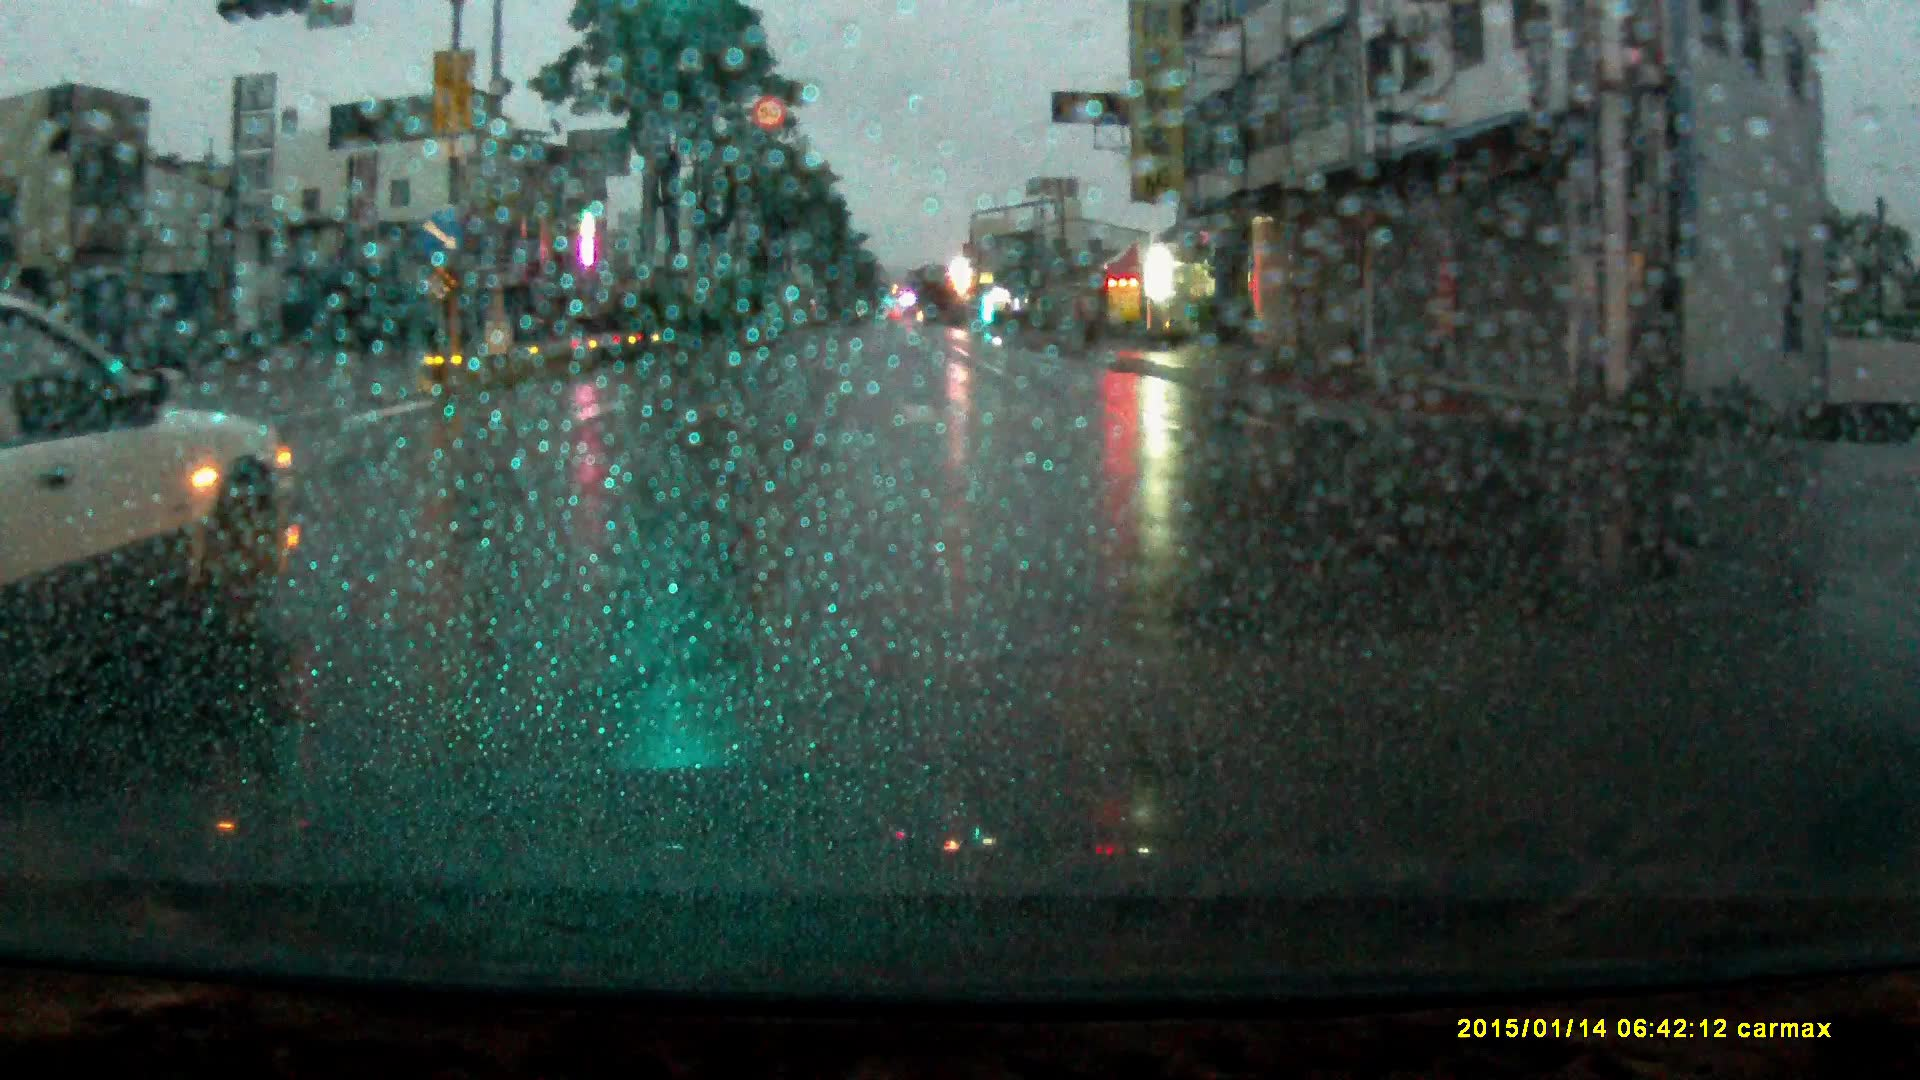vehicle: (1, 299, 301, 674)
